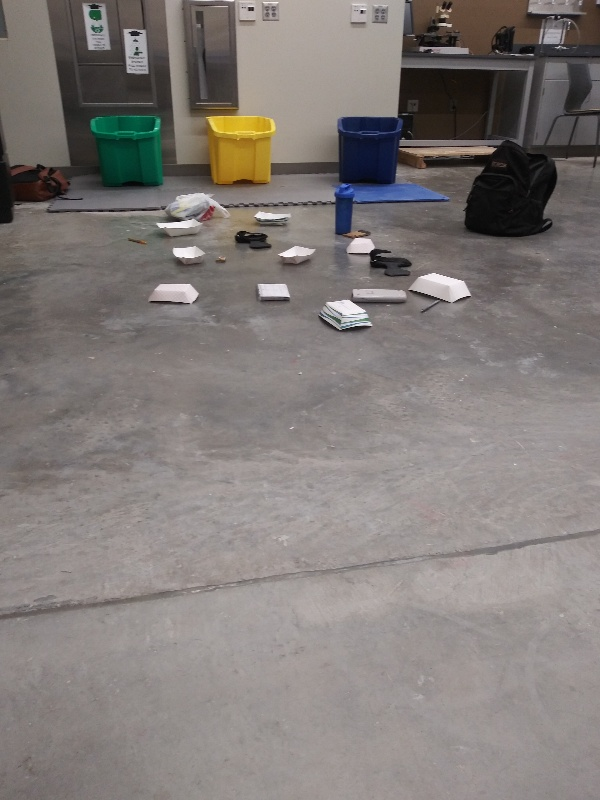plate: (313, 297, 379, 339), (407, 268, 475, 306), (146, 280, 205, 310), (271, 241, 322, 268), (153, 214, 205, 240), (165, 242, 210, 268), (252, 206, 295, 231), (343, 233, 379, 262)
